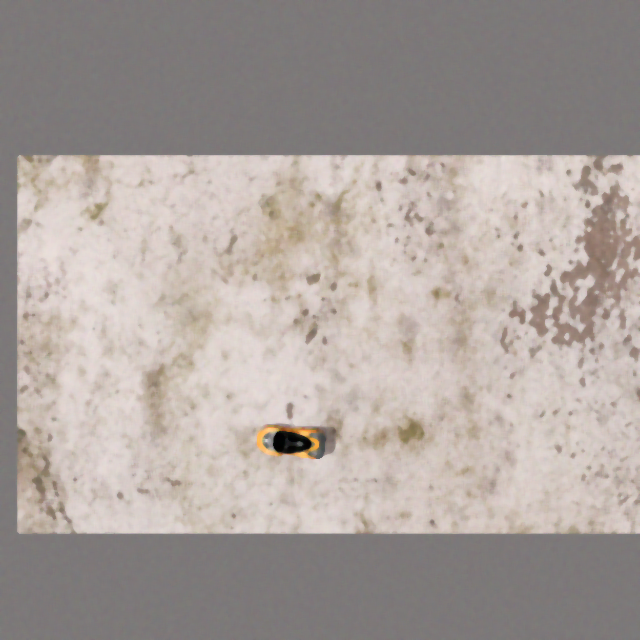car: (253, 423, 327, 462)
